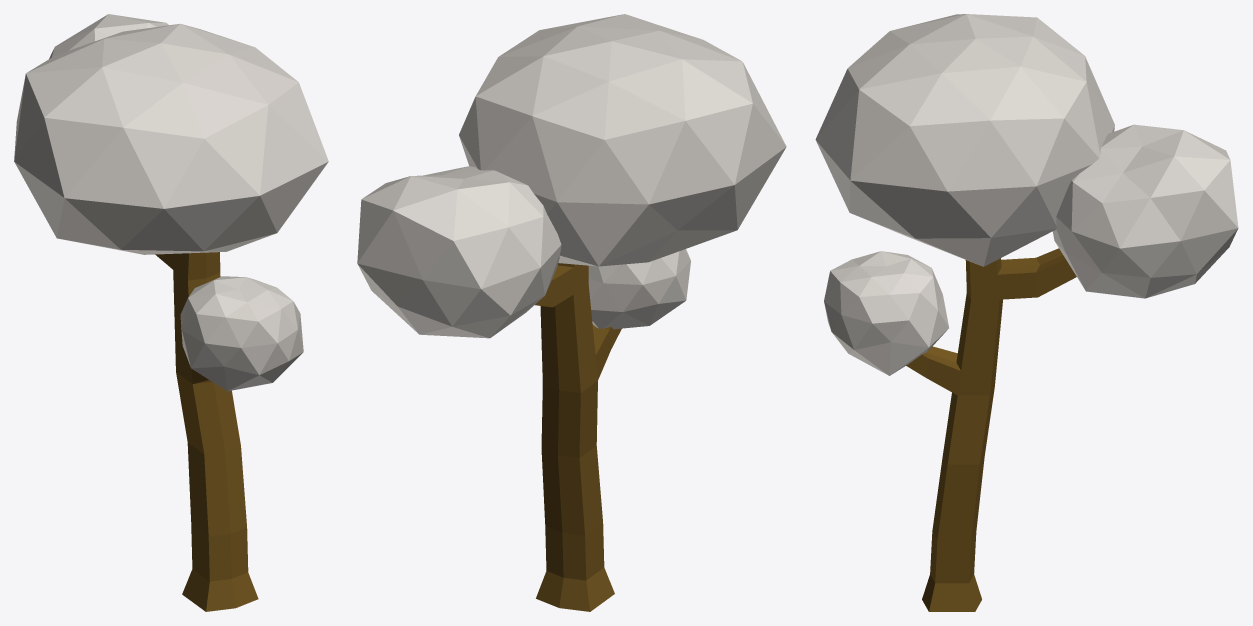
File: tree_1.fbx
The picture shows the model from 3 angles, left to right: view 1: azimuth 30°, elevation 25°; view 2: azimuth 150°, elevation 25°; view 3: azimuth 270°, elevation 25°; orthographic projection. The views are drawn at different scales.
Parts seen in each view (by area): view 1: Icosphere.059; view 2: Icosphere.059; view 3: Icosphere.059.
Part boxes in pixels (x1,y1,x2,y2): Icosphere.059: (14, 14, 328, 611); Icosphere.059: (357, 14, 786, 611); Icosphere.059: (815, 14, 1238, 611).
Bounding box in the file's own units: 1237 × 2304 × 1641.
